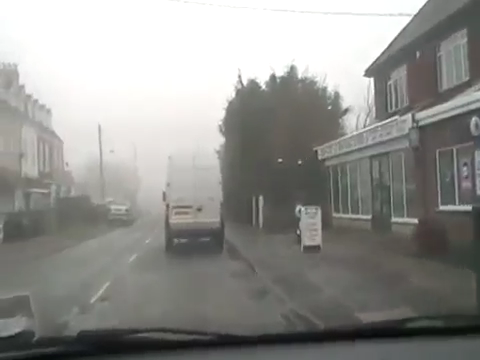bus: (161, 145, 226, 250)
car: (106, 199, 133, 222)
